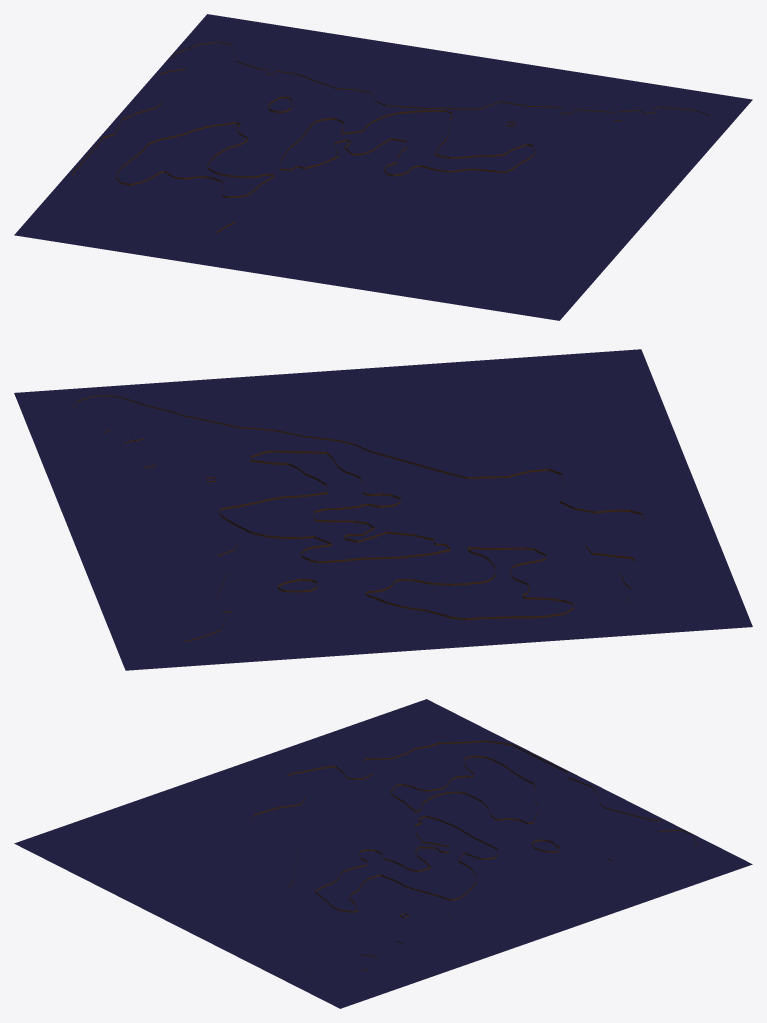
File: geom3_borders1.glb
3 views of the same model, one above another, from view 1: azimuth 30°, elevation 25°; view 2: azimuth 150°, elevation 25°; view 3: azimuth 270°, elevation 25° (orthographic). The views are drawn at different scales.
Visible parts, largest first — view 1: Plane, OutsideBorder; view 2: Plane, OutsideBorder; view 3: Plane, OutsideBorder.
Boxes of the visible parts, box(x1,y1,x2,y2) form: Plane: box(14, 14, 752, 320); OutsideBorder: box(72, 41, 711, 233); Plane: box(14, 349, 752, 670); OutsideBorder: box(73, 395, 643, 657); Plane: box(14, 699, 752, 1008); OutsideBorder: box(251, 740, 698, 972).
Size of the model in its own units: 597 by 2.34 by 600.
